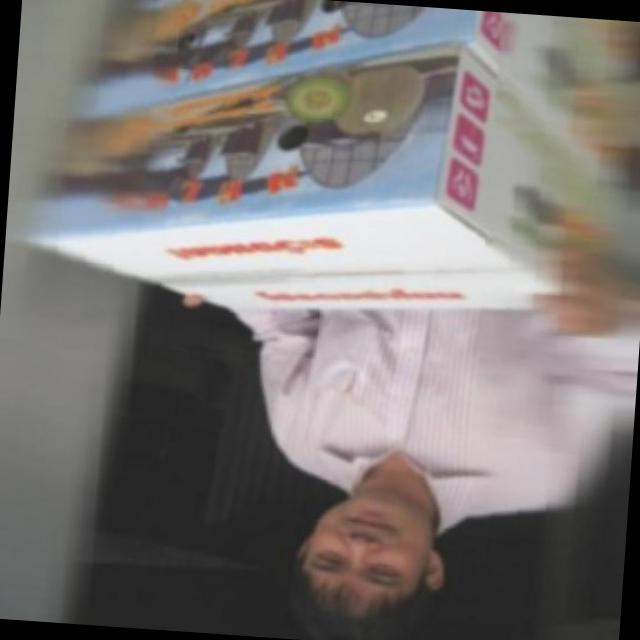box: (28, 39, 626, 338), (85, 0, 636, 163)
